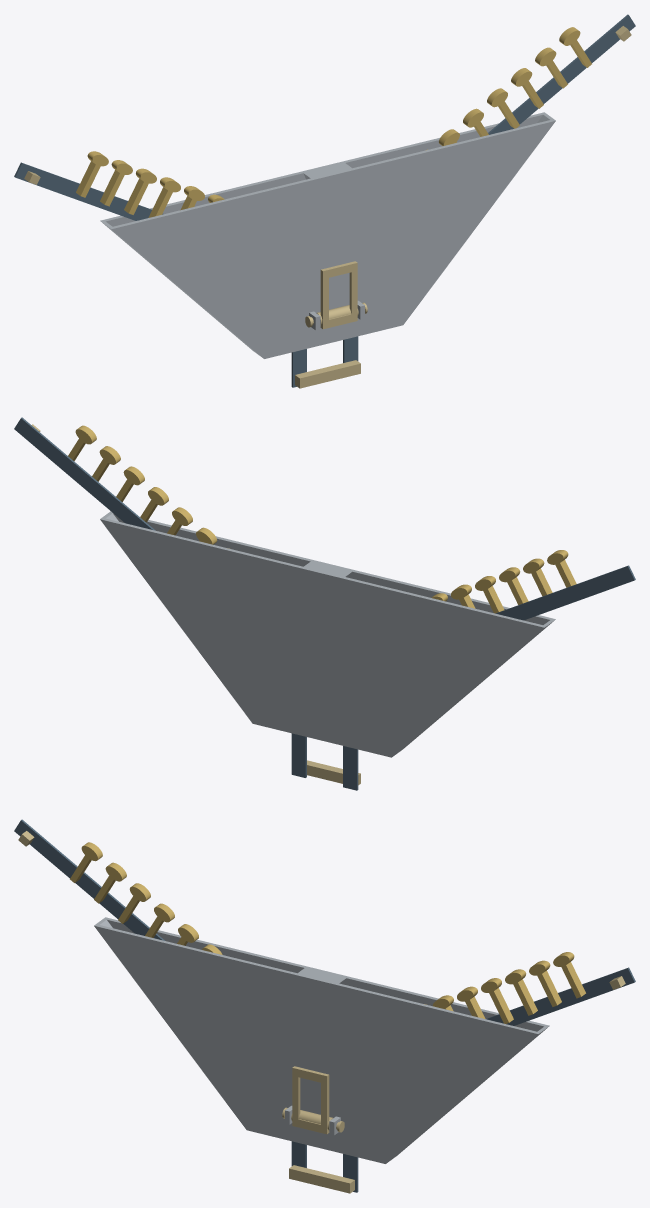
Rendered from assembly.glb.
3 renders of one model, top to bottom at view 1: azimuth 30°, elevation 25°; view 2: azimuth 150°, elevation 25°; view 3: azimuth 330°, elevation 25°, orthographic.
Visible parts, largest first — view 1: slider_upper, slider_lower, tape_R, tape_L, pull, bottom_stop, tooth_L_07, tooth_L_05, tooth_L_06, tooth_L_04, tooth_R_07, tooth_R_06 (+2 smaller); view 2: slider_lower, tape_R, slider_upper, tape_L, bottom_stop, tooth_L_05, tooth_L_06, tooth_L_07, tooth_L_04; view 3: slider_upper, slider_lower, tape_L, tape_R, pull, bottom_stop, tooth_R_05, tooth_R_07, tooth_R_06, tooth_R_04, tooth_L_07, tooth_L_05 (+1 smaller).
Boxes of the visible parts, bbox=[...] form: slider_upper: bbox=[109, 119, 555, 358]; slider_lower: bbox=[100, 112, 546, 351]; tape_R: bbox=[343, 14, 635, 362]; tape_L: bbox=[14, 162, 306, 387]; pull: bbox=[316, 261, 358, 329]; bottom_stop: bbox=[295, 360, 360, 388]; tooth_L_07: bbox=[76, 151, 108, 197]; tooth_L_05: bbox=[124, 168, 156, 214]; tooth_L_06: bbox=[100, 160, 132, 206]; tooth_L_04: bbox=[148, 177, 180, 217]; tooth_R_07: bbox=[559, 27, 591, 67]; tooth_R_06: bbox=[535, 47, 567, 88]; slider_lower: bbox=[100, 517, 546, 757]; tape_R: bbox=[14, 417, 306, 777]; slider_upper: bbox=[110, 511, 555, 748]; tape_L: bbox=[343, 565, 635, 790]; bottom_stop: bbox=[307, 760, 360, 785]; tooth_L_05: bbox=[499, 567, 528, 604]; tooth_L_06: bbox=[523, 558, 552, 596]; tooth_L_07: bbox=[547, 550, 576, 587]; tooth_L_04: bbox=[475, 576, 504, 613]; slider_upper: bbox=[94, 924, 540, 1163]; slider_lower: bbox=[103, 917, 549, 1156]; tape_L: bbox=[14, 819, 306, 1167]; tape_R: bbox=[343, 967, 635, 1192]; pull: bbox=[291, 1066, 333, 1134]; bottom_stop: bbox=[289, 1165, 354, 1193]; tooth_R_05: bbox=[505, 969, 537, 1015]; tooth_R_07: bbox=[553, 952, 585, 998]; tooth_R_06: bbox=[529, 960, 561, 1006]; tooth_R_04: bbox=[481, 978, 513, 1023]; tooth_L_07: bbox=[70, 842, 102, 882]; tooth_L_05: bbox=[118, 883, 150, 923].
Bounding box in the file's own units: 0.0893 × 0.0402 × 0.00455.
